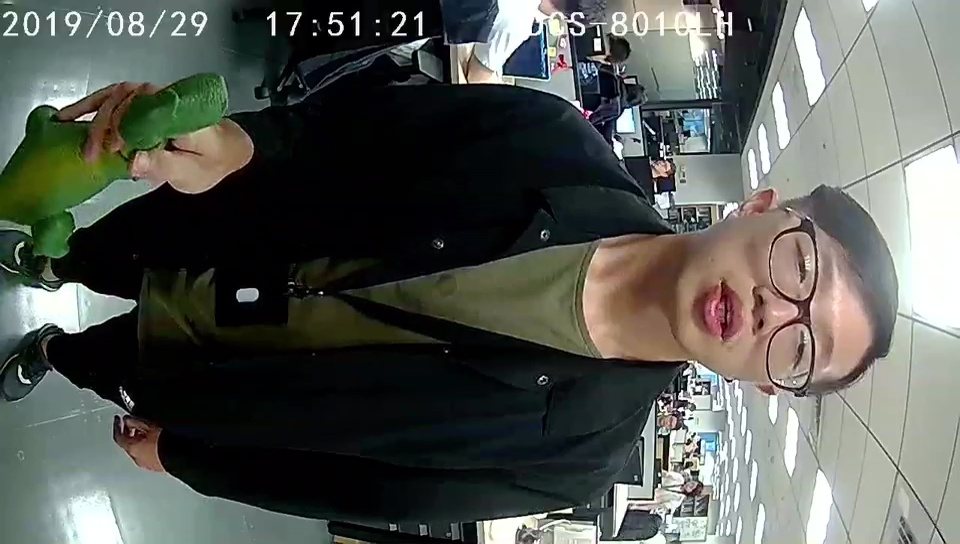rex: (5, 69, 230, 261)
